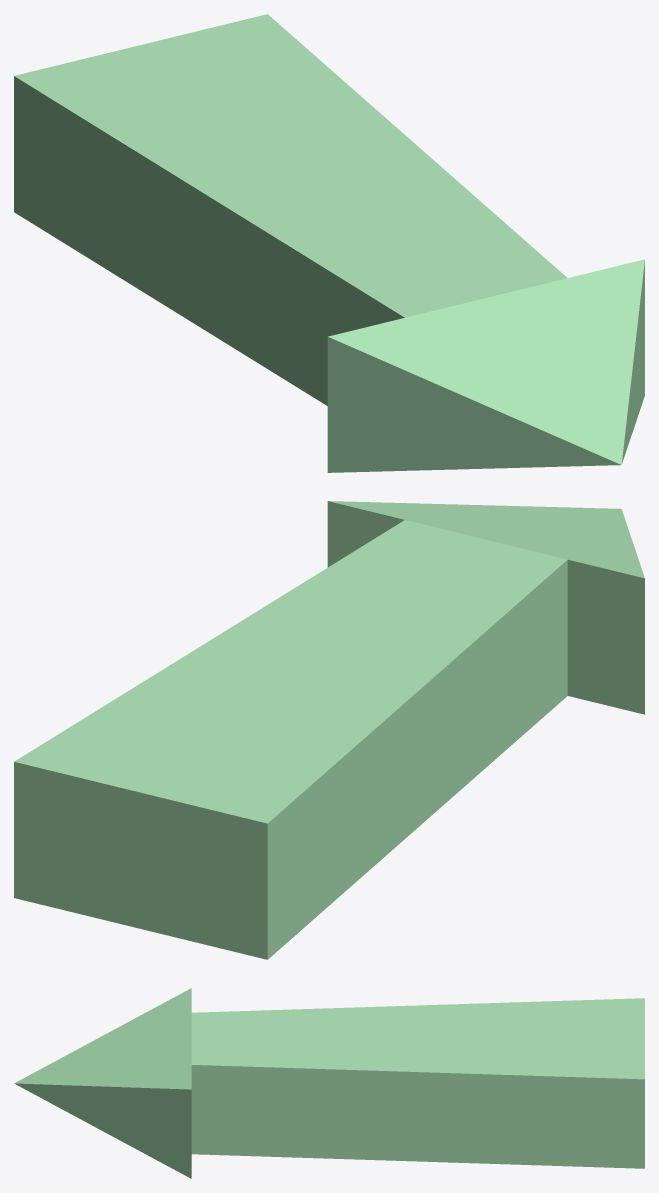
File: arrow.fbx
The picture shows the model from 3 angles, top to bottom: view 1: azimuth 30°, elevation 25°; view 2: azimuth 150°, elevation 25°; view 3: azimuth 270°, elevation 25°; orthographic projection. The views are drawn at different scales.
Visible parts, largest first — view 1: Arrow; view 2: Arrow; view 3: Arrow.
Part boxes in pixels (x1,y1,x2,y2): Arrow: [14, 14, 644, 472]; Arrow: [14, 501, 644, 959]; Arrow: [14, 988, 644, 1178].
Size of the model in its own units: 79.51 by 32.64 by 209.
